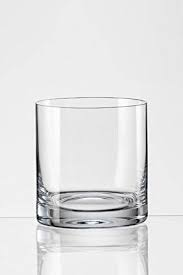glass: (29, 92, 153, 231)
